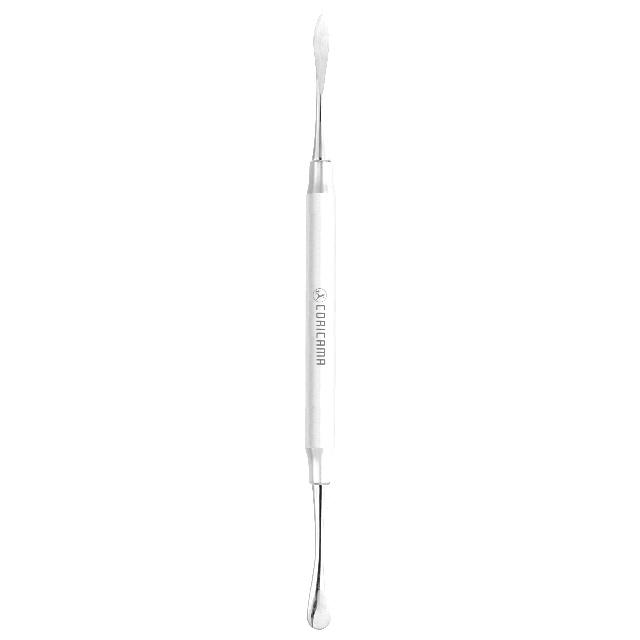elevador: (304, 12, 343, 632)
